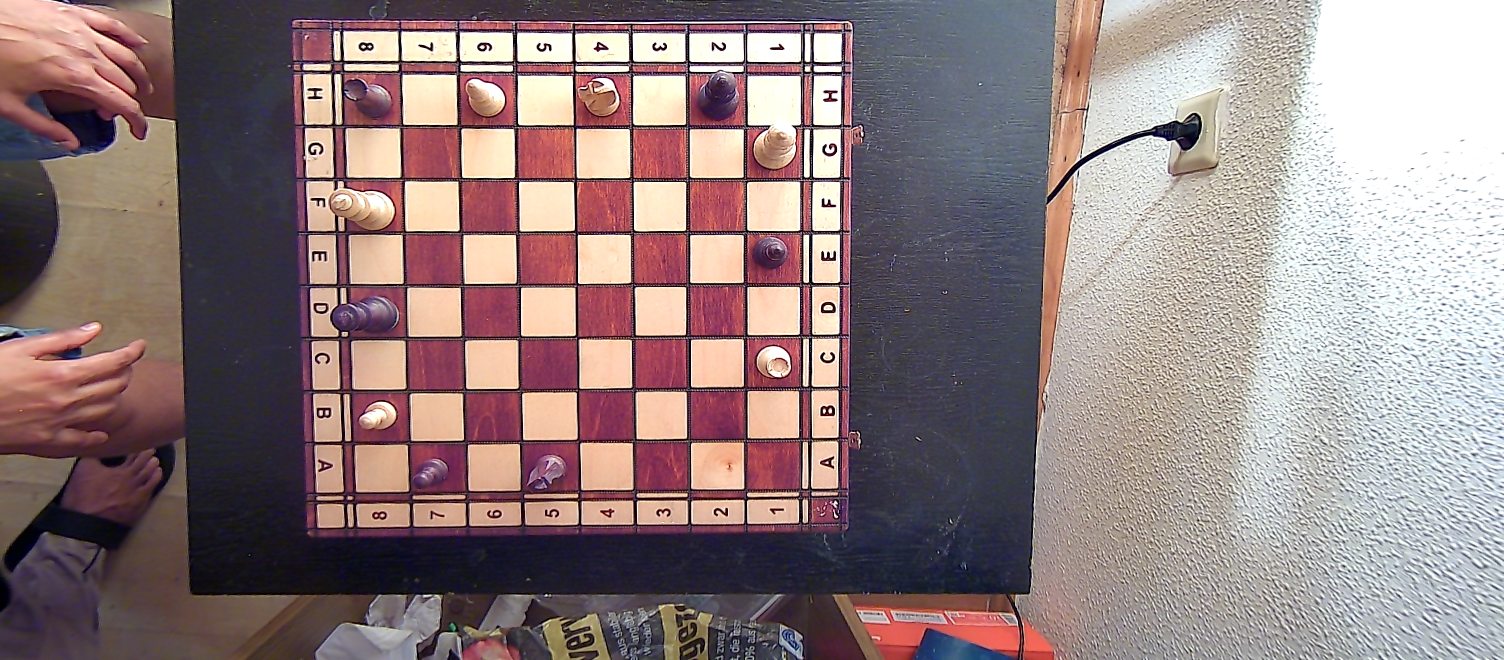black-bishop: (753, 234, 793, 270)
black-king: (330, 293, 401, 339)
black-knight: (522, 452, 568, 496)
black-pawn: (410, 454, 450, 491)
black-queen: (695, 69, 742, 122)
black-rook: (342, 74, 394, 120)
white-bishop: (463, 73, 507, 120)
white-king: (327, 185, 395, 231)
white-knight: (574, 72, 622, 120)
white-pawn: (356, 400, 400, 433)
white-queen: (751, 119, 801, 172)
white-rook: (754, 343, 794, 380)
